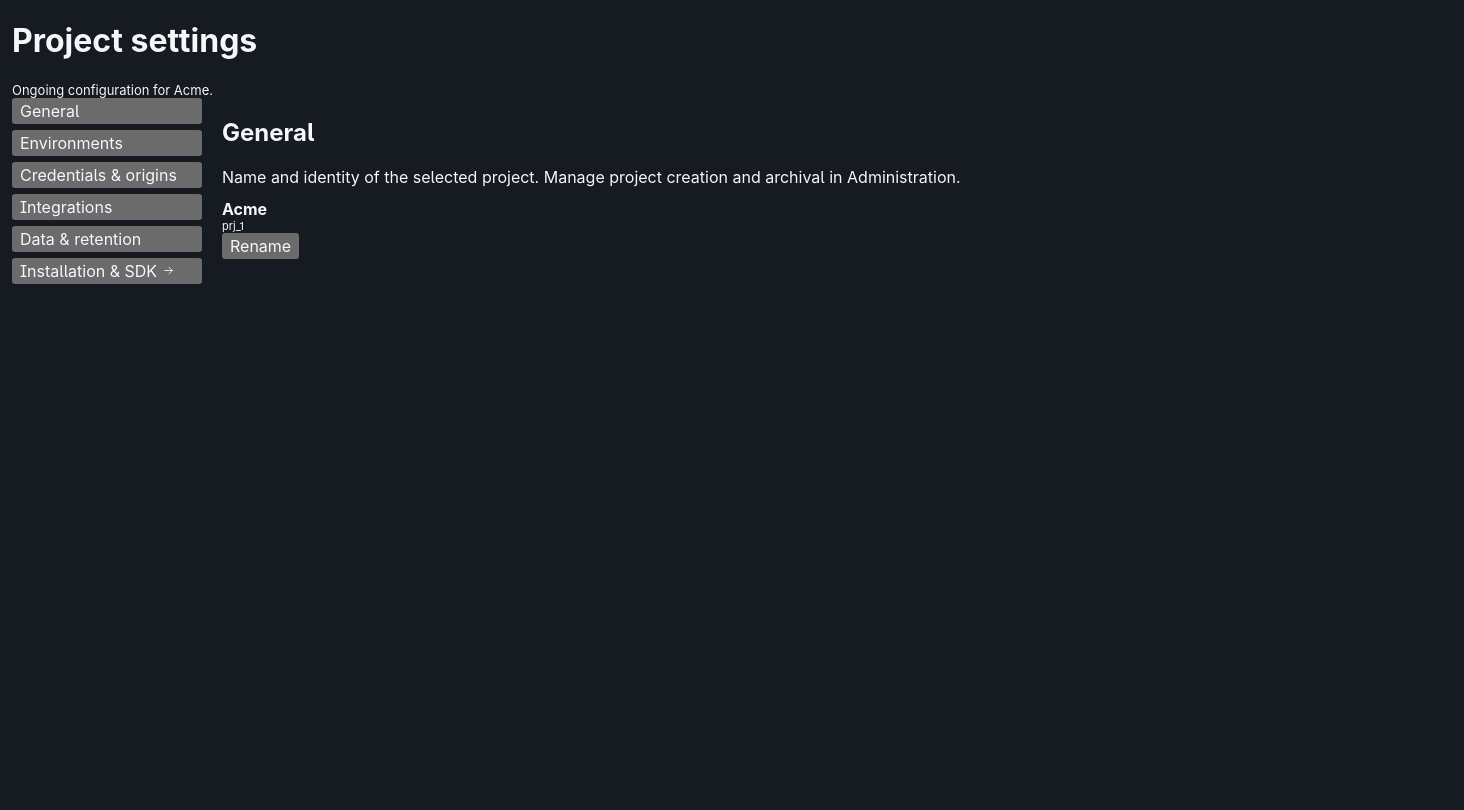
SetupScreen › shows a newly created browser key in credentials without mounting installation
Click the button "Credentials & origins".
click(107, 175)  # box [12, 162, 202, 188]
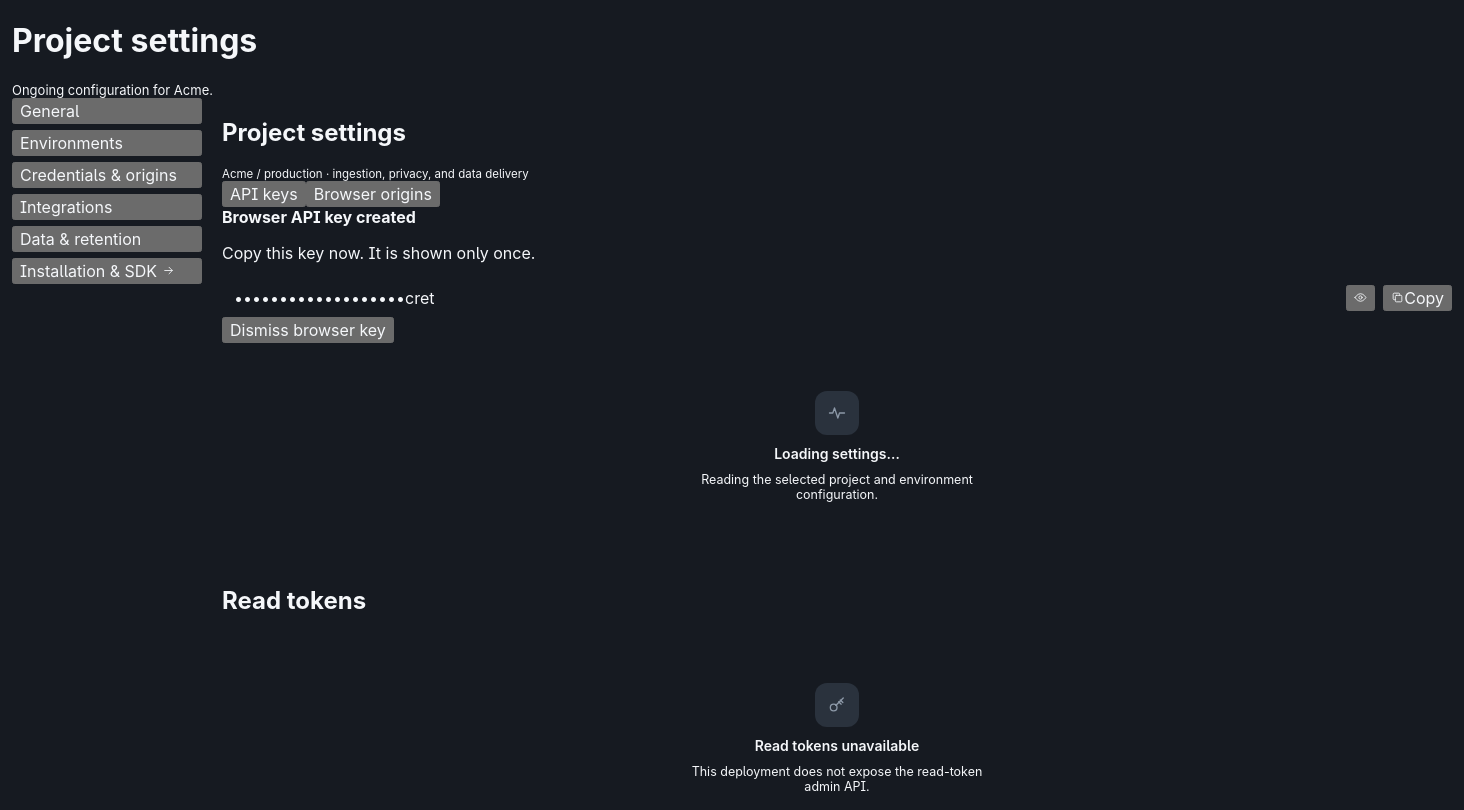
Click the button titled "Reveal".
click(1361, 298)  # box [1346, 285, 1375, 311]
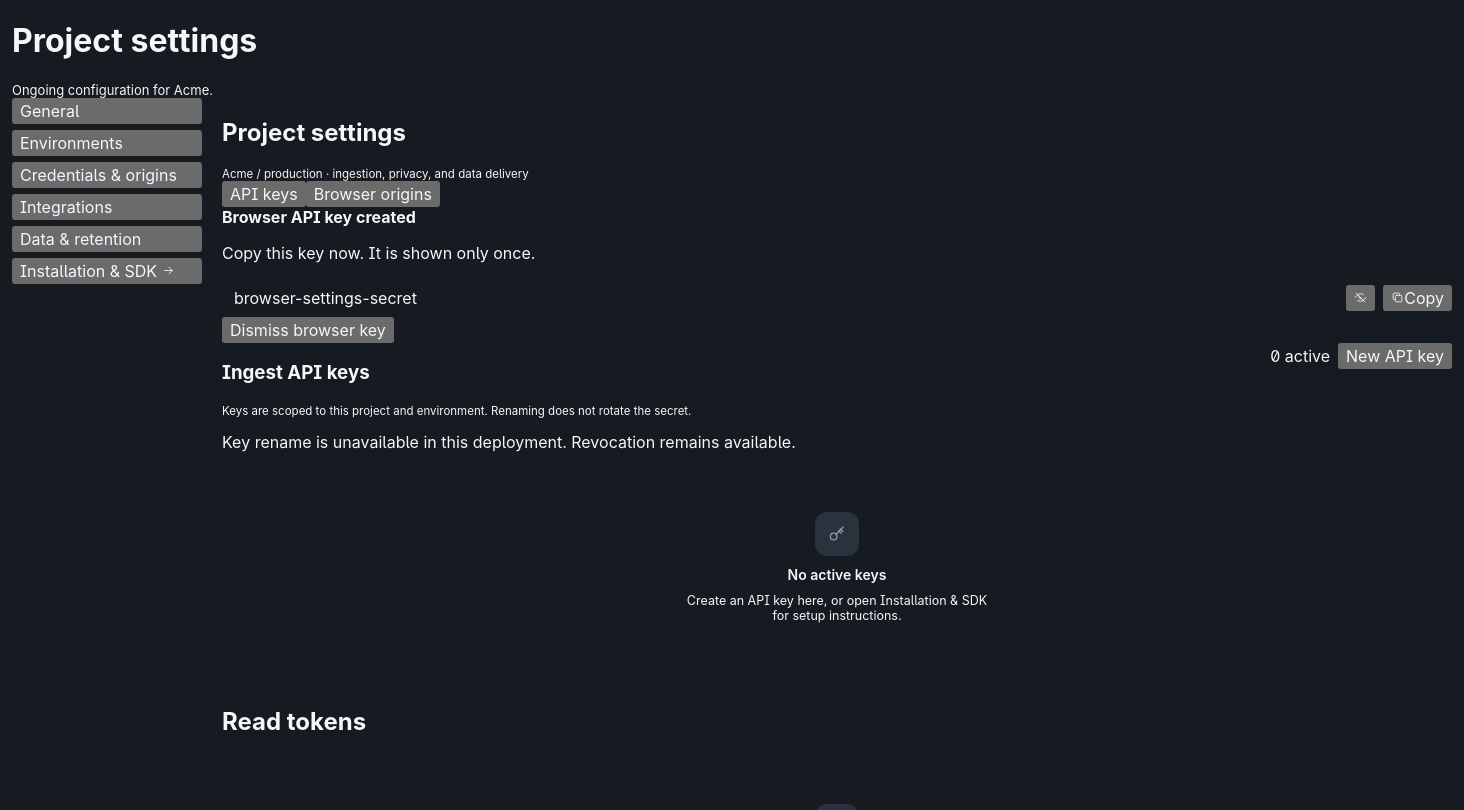
Expected: the text "browser-settings-secret" is shown, [234, 288, 417, 308]
